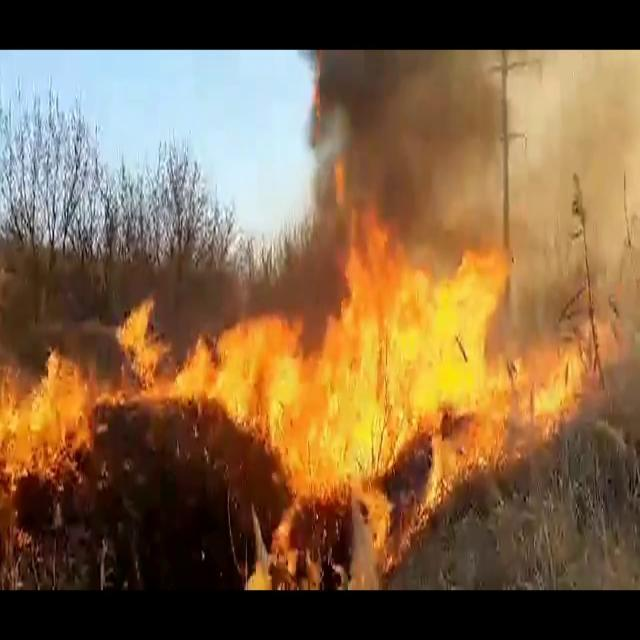Fire: (193, 200, 588, 556), (0, 332, 104, 546)
Smoke: (272, 51, 508, 256), (504, 50, 640, 357), (105, 280, 267, 427)
